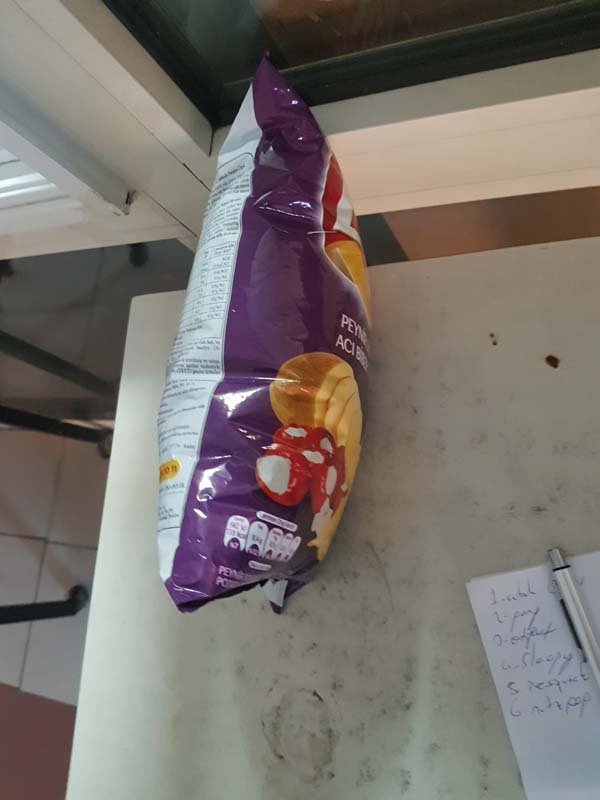layspeynirsoslu: (160, 50, 378, 621)
